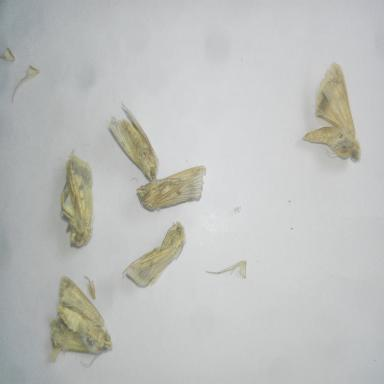abw: (298, 58, 363, 167), (48, 271, 115, 371), (118, 216, 188, 294), (104, 100, 163, 186), (133, 160, 209, 218), (58, 149, 100, 253)
